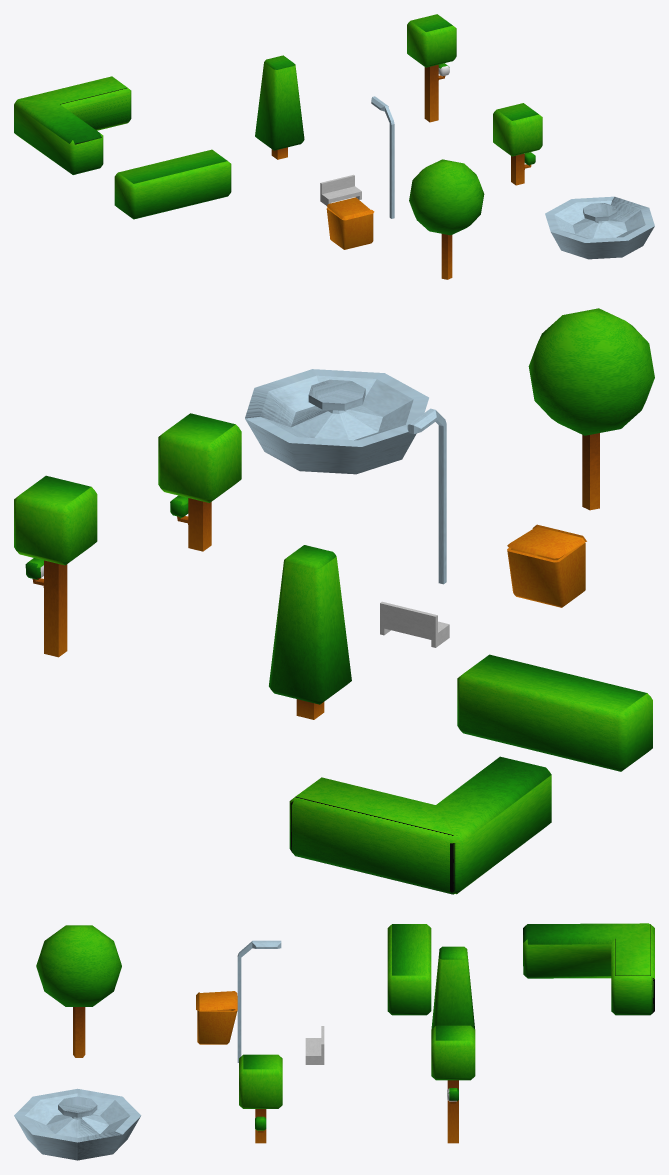
File: ParqueSolo.FBX
3 views of the same model, one above another, from view 1: azimuth 30°, elevation 25°; view 2: azimuth 150°, elevation 25°; view 3: azimuth 270°, elevation 25° (orthographic). The views are drawn at different scales.
Parts seen in each view (by area): view 1: arbustoL, arbusto, fuente, arbolredondo, arbol2, arbol1, arbol1-s, container, banco, farola; view 2: arbustoL, arbusto, fuente, arbolredondo, arbol2, arbol1, arbol1-s, container, farola, banco; view 3: arbustoL, fuente, arbolredondo, arbusto, arbol1, arbol2, arbol1-s, container, farola, banco.
Boxes of the visible parts, bbox=[...] form: arbustoL: bbox=[14, 76, 131, 174]; arbusto: bbox=[114, 149, 231, 219]; fuente: bbox=[545, 196, 654, 259]; arbolredondo: bbox=[409, 159, 484, 279]; arbol2: bbox=[255, 55, 304, 159]; arbol1: bbox=[407, 14, 456, 122]; arbol1-s: bbox=[493, 103, 542, 185]; container: bbox=[326, 197, 374, 249]; banco: bbox=[320, 174, 361, 205]; farola: bbox=[371, 96, 394, 218]; arbustoL: bbox=[289, 756, 551, 894]; arbusto: bbox=[457, 654, 652, 771]; fuente: bbox=[245, 369, 428, 474]; arbolredondo: bbox=[528, 308, 654, 510]; arbol2: bbox=[269, 545, 351, 719]; arbol1: bbox=[14, 475, 97, 657]; arbol1-s: bbox=[158, 413, 241, 551]; container: bbox=[507, 524, 586, 607]; farola: bbox=[407, 408, 446, 584]; banco: bbox=[380, 601, 449, 647]; arbustoL: bbox=[523, 923, 654, 1015]; fuente: bbox=[14, 1088, 140, 1160]; arbolredondo: bbox=[36, 925, 121, 1057]; arbusto: bbox=[387, 924, 431, 1015]; arbol1: bbox=[431, 1025, 475, 1143]; arbol2: bbox=[431, 946, 474, 1029]; arbol1-s: bbox=[239, 1054, 282, 1143]; container: bbox=[196, 991, 237, 1044]; farola: bbox=[237, 940, 281, 1062]; banco: bbox=[305, 1026, 324, 1064].
Bounding box in the file's own units: 376 × 111 × 492.
Materials: 1 (1 with a texture image).
